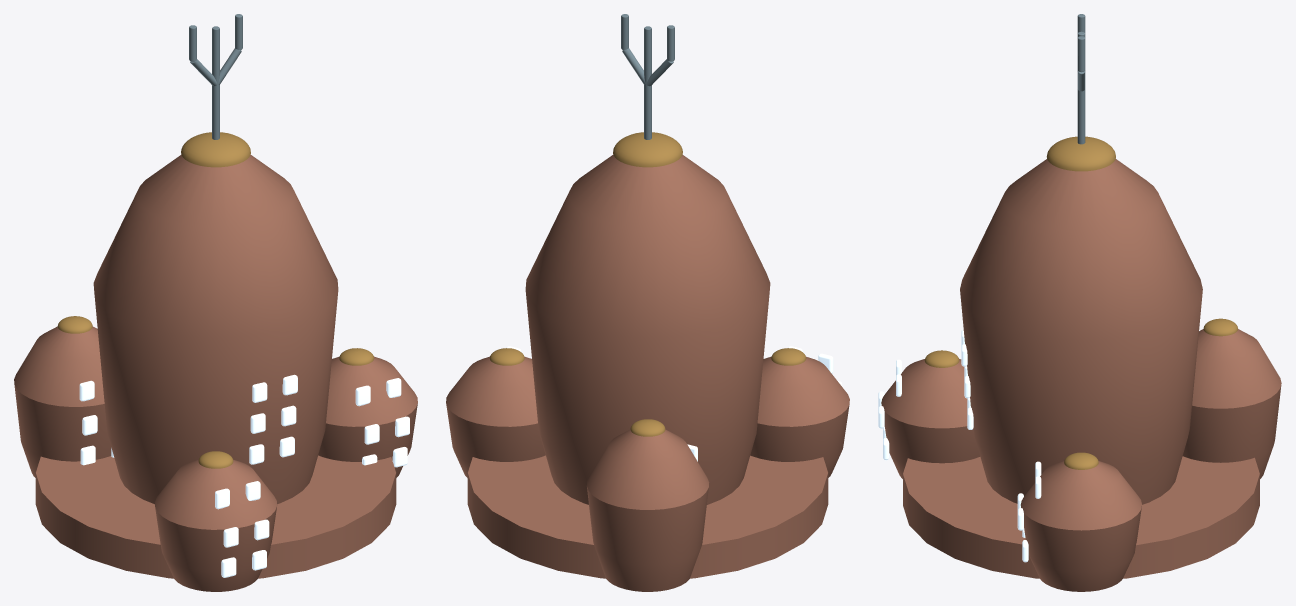
3 renders of one model, left to right at view 1: azimuth 30°, elevation 25°; view 2: azimuth 150°, elevation 25°; view 3: azimuth 270°, elevation 25°, orthographic.
Parts seen in each view (by area): view 1: Bulb shaped chamber, Foundation drum, Bulb shaped chamber.003, Bulb shaped chamber.002, Bulb shaped chamber.001, Tower crown, Aerial stem; view 2: Bulb shaped chamber, Foundation drum, Bulb shaped chamber.002, Bulb shaped chamber.003, Bulb shaped chamber.001, Tower crown, Aerial stem; view 3: Bulb shaped chamber, Foundation drum, Bulb shaped chamber.001, Bulb shaped chamber.002, Bulb shaped chamber.003, Tower crown, Aerial stem.
Part boxes in pixels (x1,y1,x2,y2): Bulb shaped chamber: [93, 154, 338, 504]; Foundation drum: [35, 455, 396, 578]; Bulb shaped chamber.003: [154, 459, 277, 591]; Bulb shaped chamber.002: [14, 326, 111, 477]; Bulb shaped chamber.001: [318, 356, 417, 477]; Tower crown: [181, 132, 250, 167]; Aerial stem: [212, 26, 219, 139]; Bulb shaped chamber: [525, 154, 770, 504]; Foundation drum: [467, 455, 828, 578]; Bulb shaped chamber.002: [586, 429, 709, 591]; Bulb shaped chamber.003: [750, 356, 849, 477]; Bulb shaped chamber.001: [446, 356, 545, 477]; Tower crown: [613, 132, 682, 167]; Aerial stem: [644, 26, 651, 139]; Bulb shaped chamber: [960, 159, 1202, 504]; Foundation drum: [903, 456, 1259, 578]; Bulb shaped chamber.001: [1020, 461, 1141, 591]; Bulb shaped chamber.002: [1182, 329, 1281, 478]; Bulb shaped chamber.003: [881, 359, 980, 478]; Tower crown: [1046, 136, 1115, 171]; Aerial stem: [1077, 31, 1085, 144].
Bounding box in the file's own units: 2.29 × 3.02 × 2.3.
